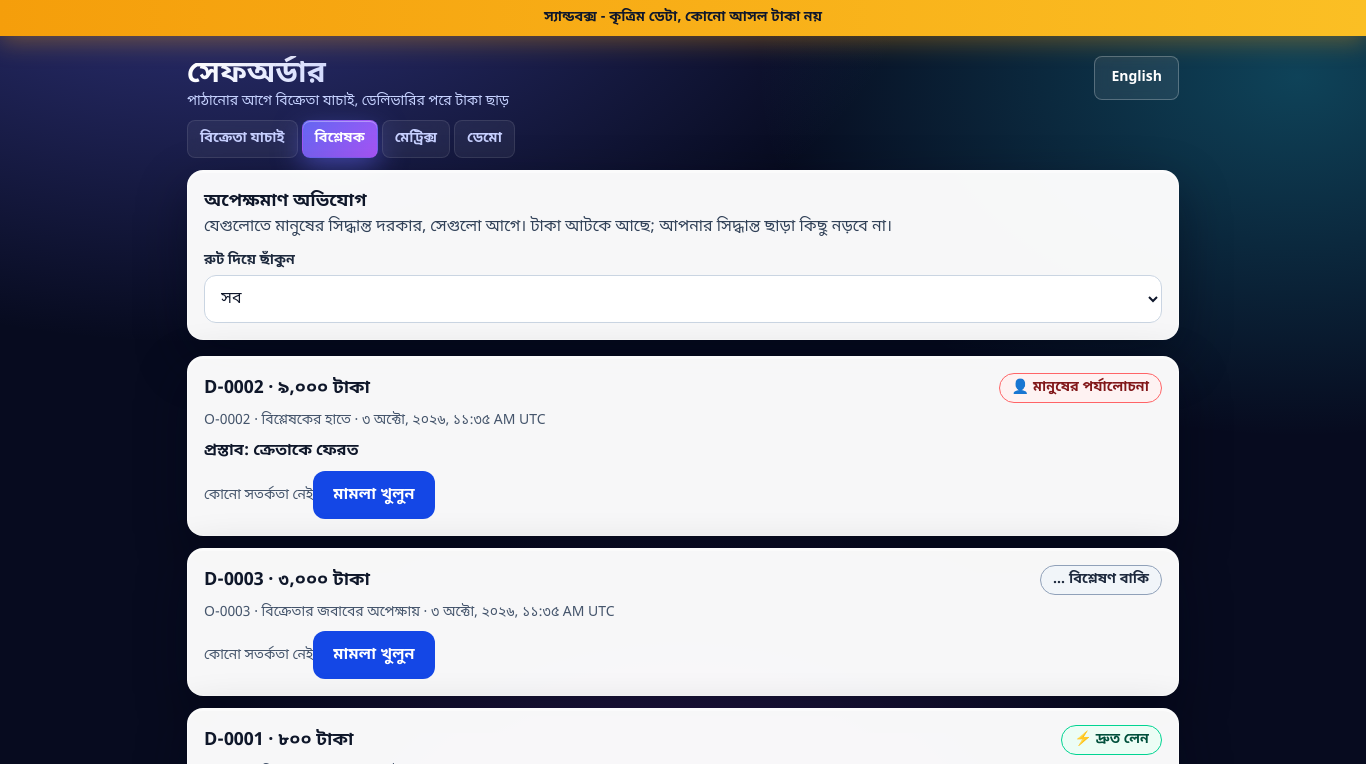
Test: analyst queue › lists human-review cases first, then the larger amounts, and filters by route
The width and height of the screenshot is (1366, 764).
Select "বিশ্লেষণ বাকি" in the dropdown labelled "রুট দিয়ে ছাঁকুন". click: (683, 299)
box: [204,275,1162,323]
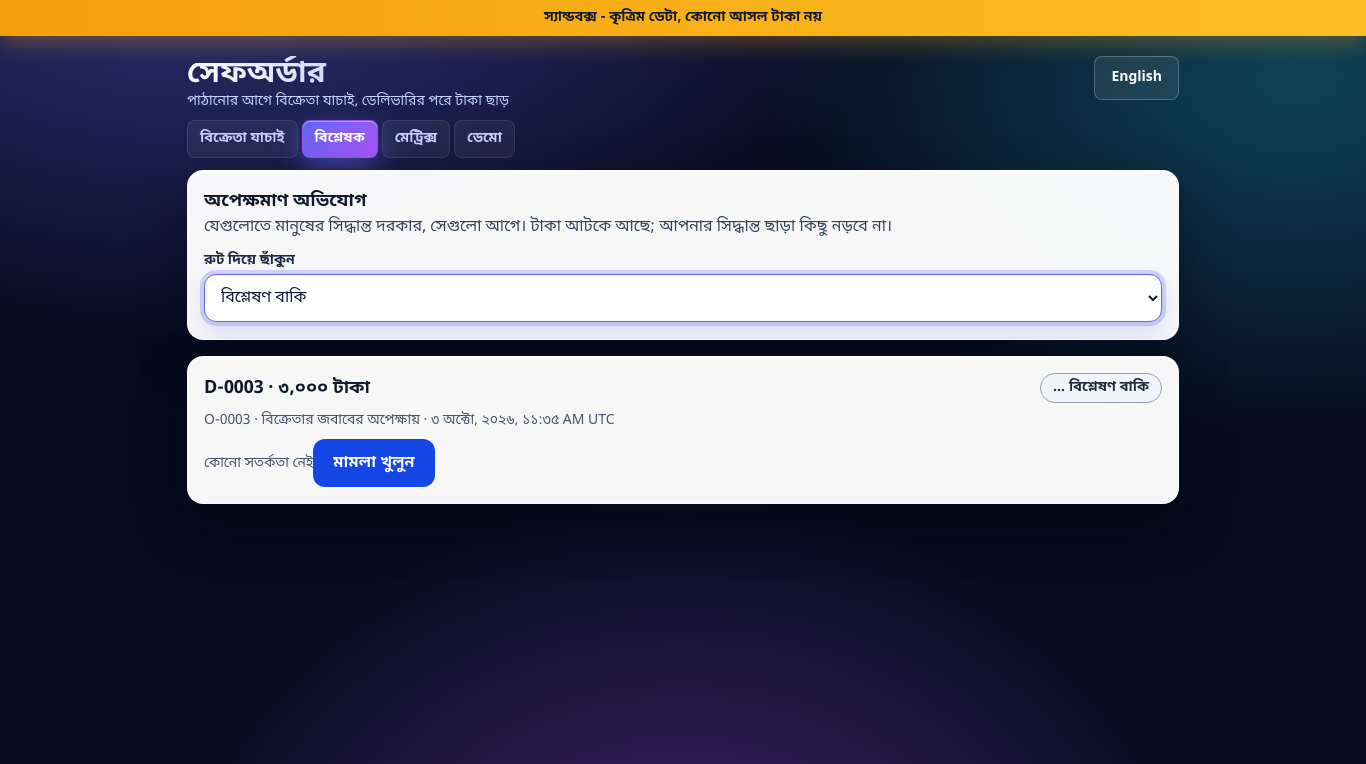
Result: the number of list items is 1 at [187,356,1179,504]
